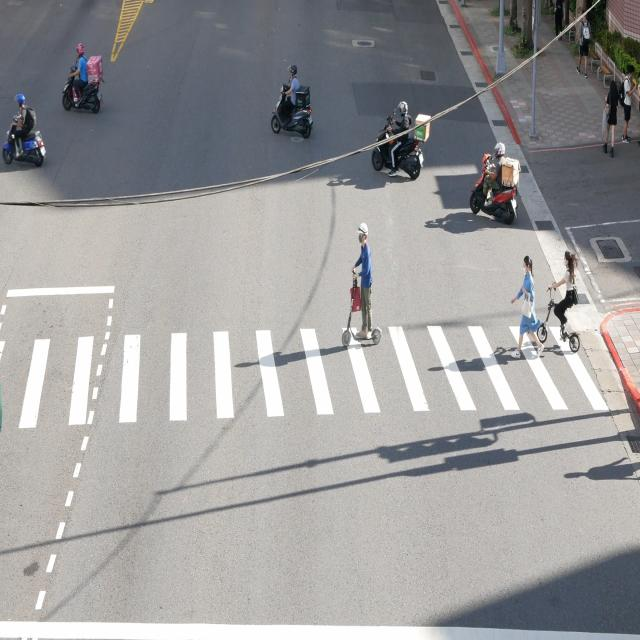pedestrian: (511, 256, 544, 358), (548, 251, 576, 341), (352, 223, 372, 337)
